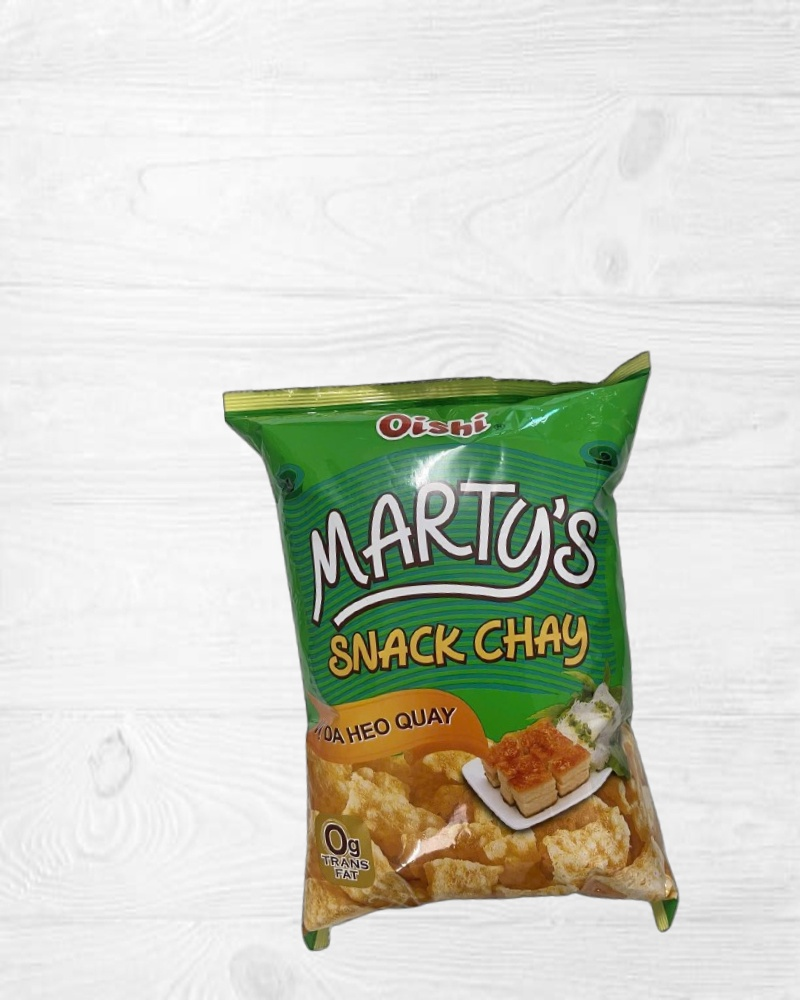Snack chay: (223, 351, 701, 967)
